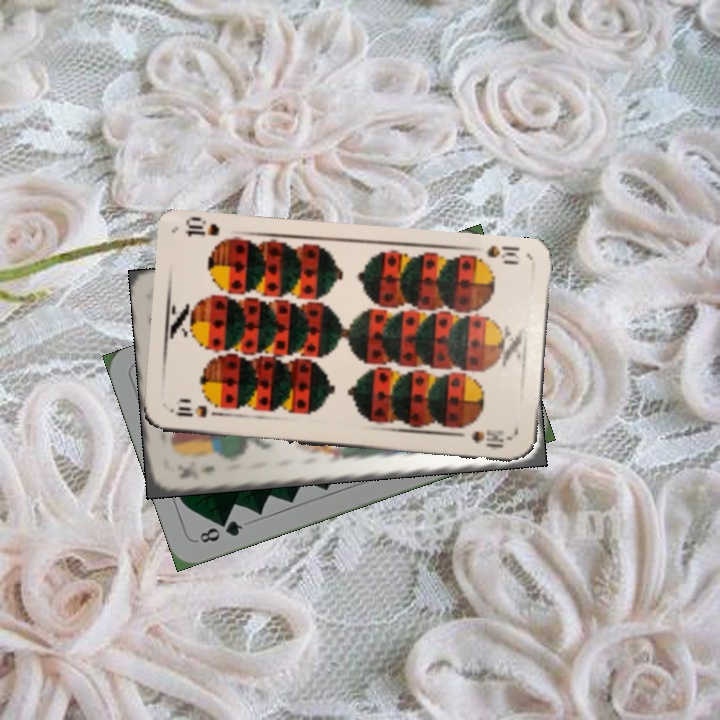EK: (175, 462, 217, 483)
G8: (195, 516, 246, 546)
S10: (166, 402, 225, 420), (482, 241, 522, 267)
